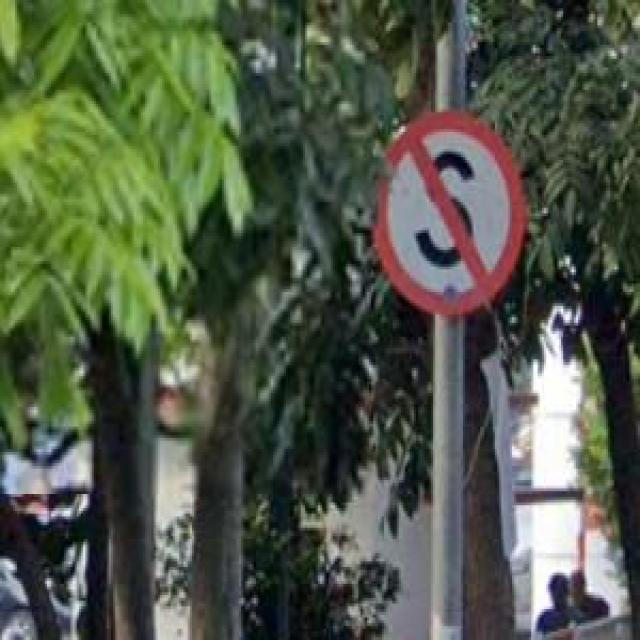traffic sign: (373, 110, 524, 318)
